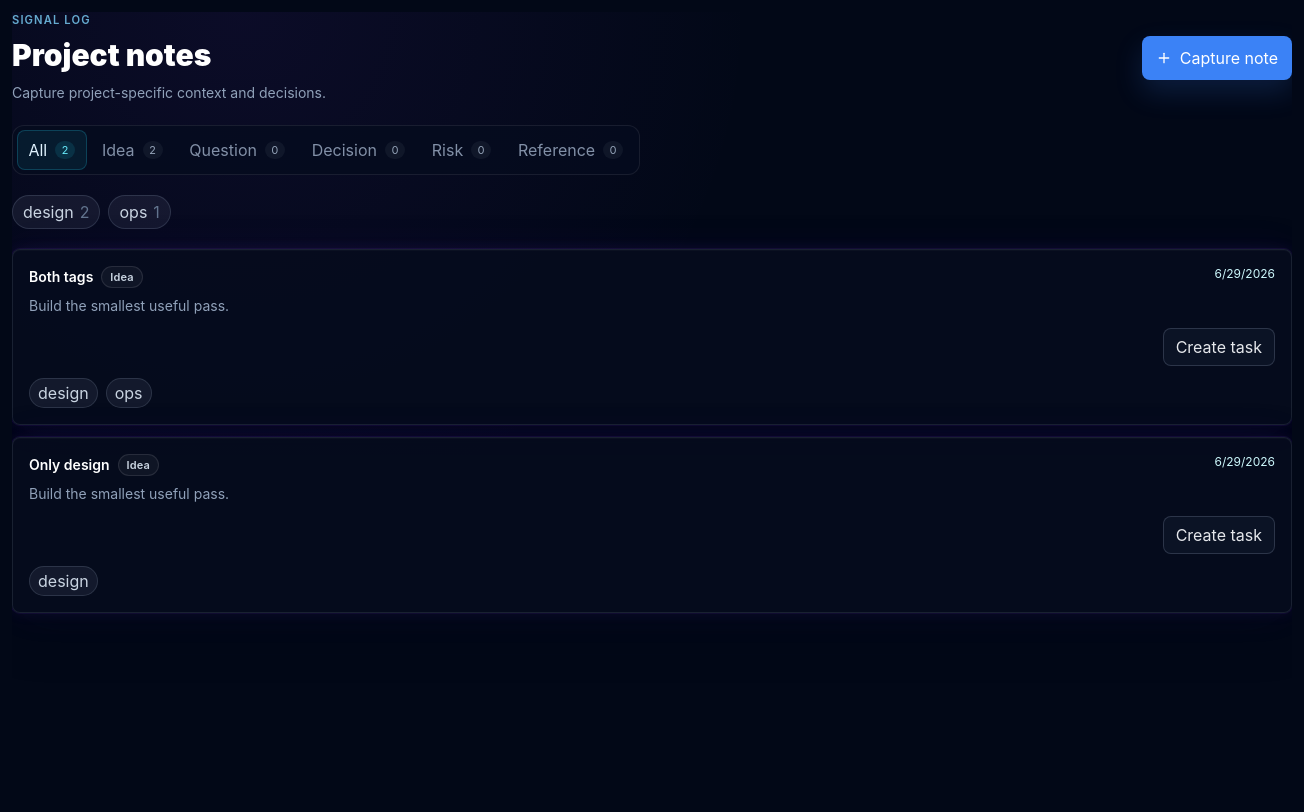
NotesPage › narrows with AND when two tags are pressed
Click the button "design 2" at point(56, 212), box [12,195,100,229]
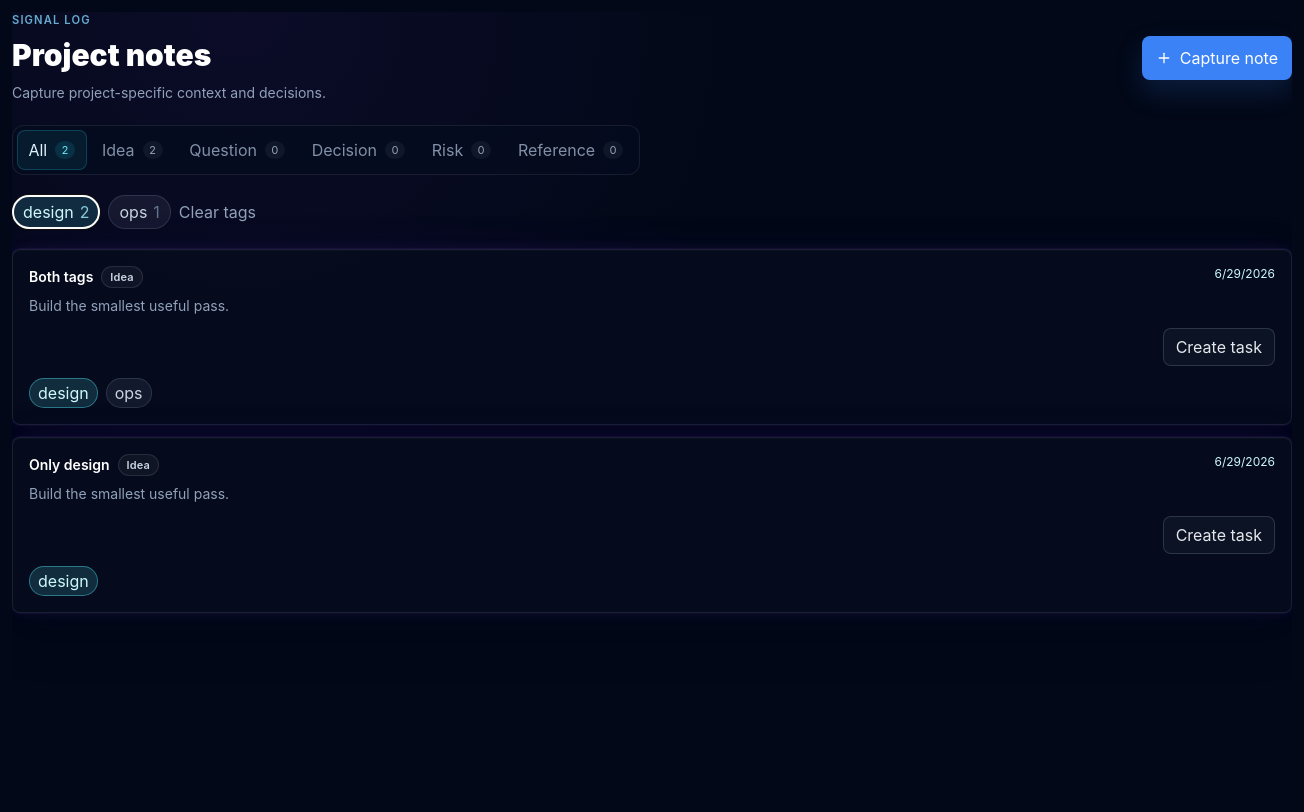
Click the button "ops 1" at point(140, 212), box [108,195,171,229]
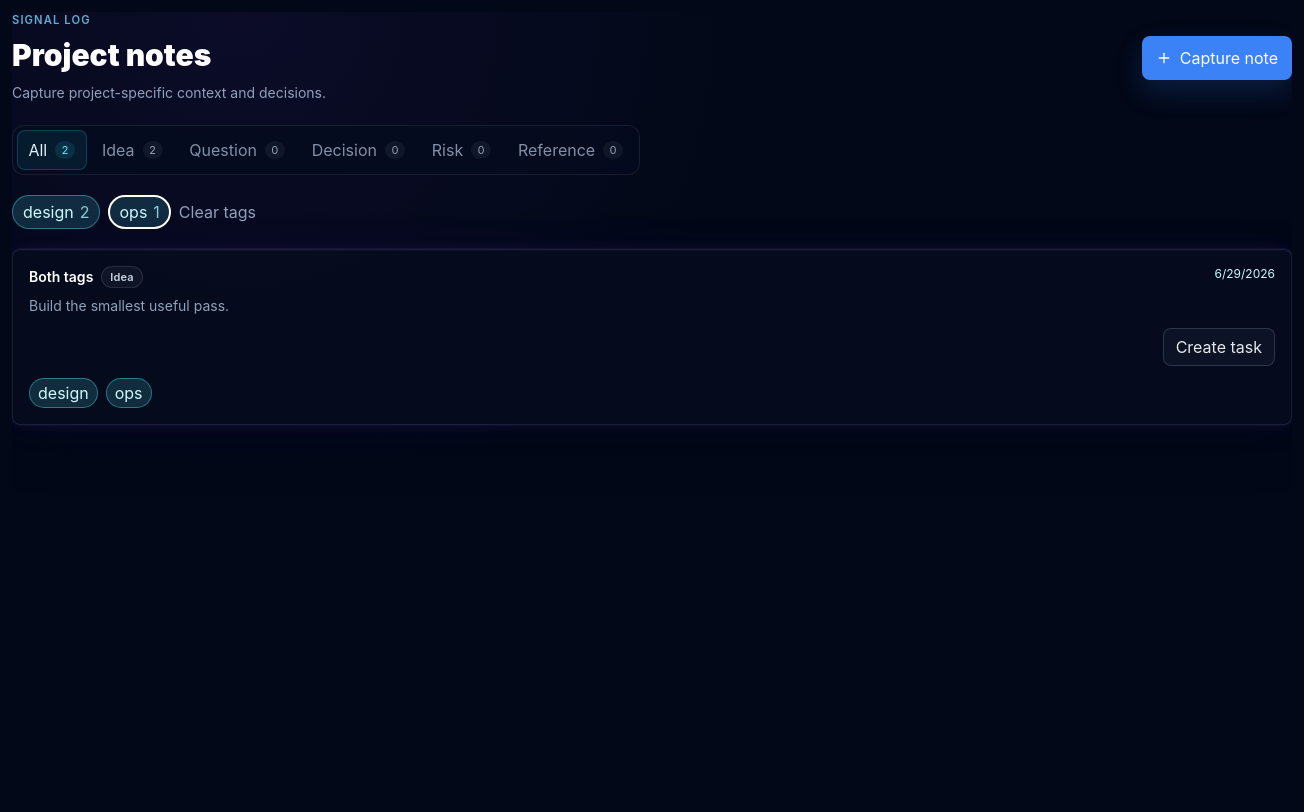
Expected: the heading "Both tags" is shown, [29,267,93,287]
Expected: the heading "Only design" is gone
